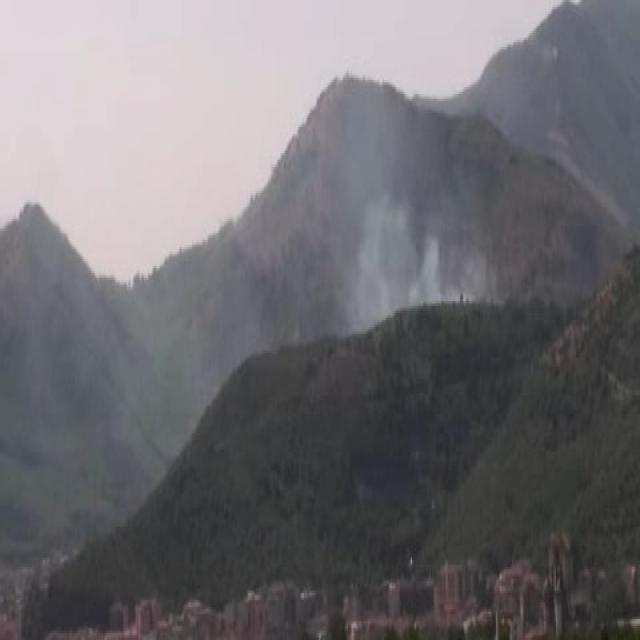smoke: (317, 124, 488, 324)
